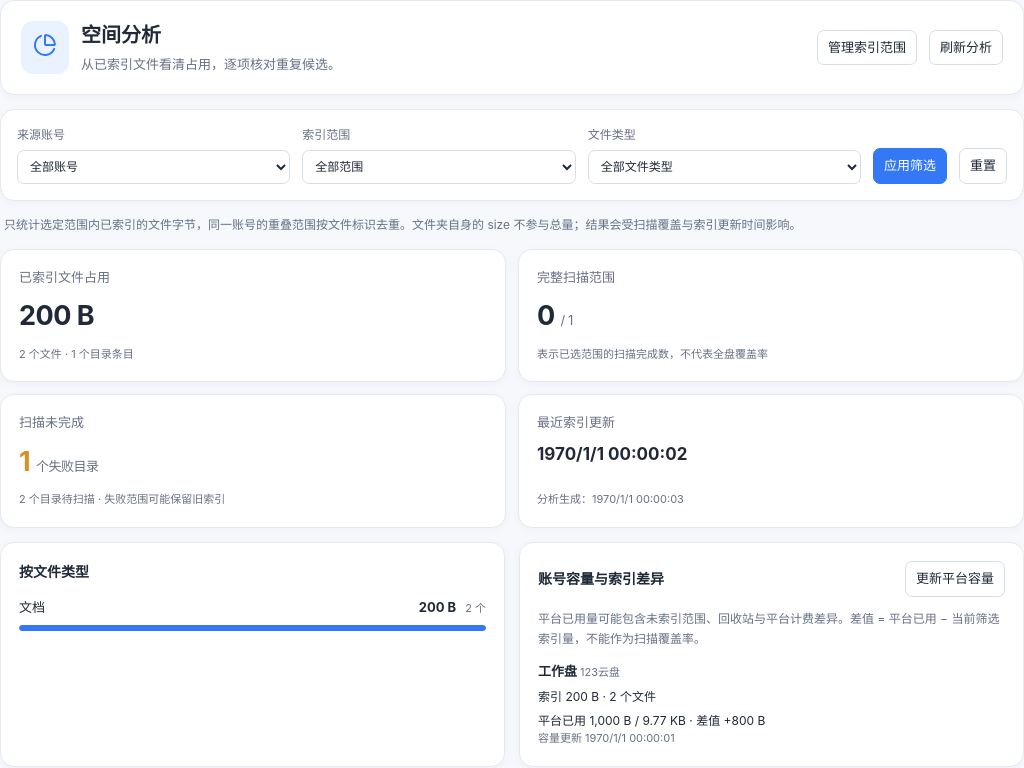
it: ignores late summaries and list responses when newer filters finish first
Select "工作盘" in the dropdown named "来源账号" at (154, 166), box [17, 150, 290, 184]
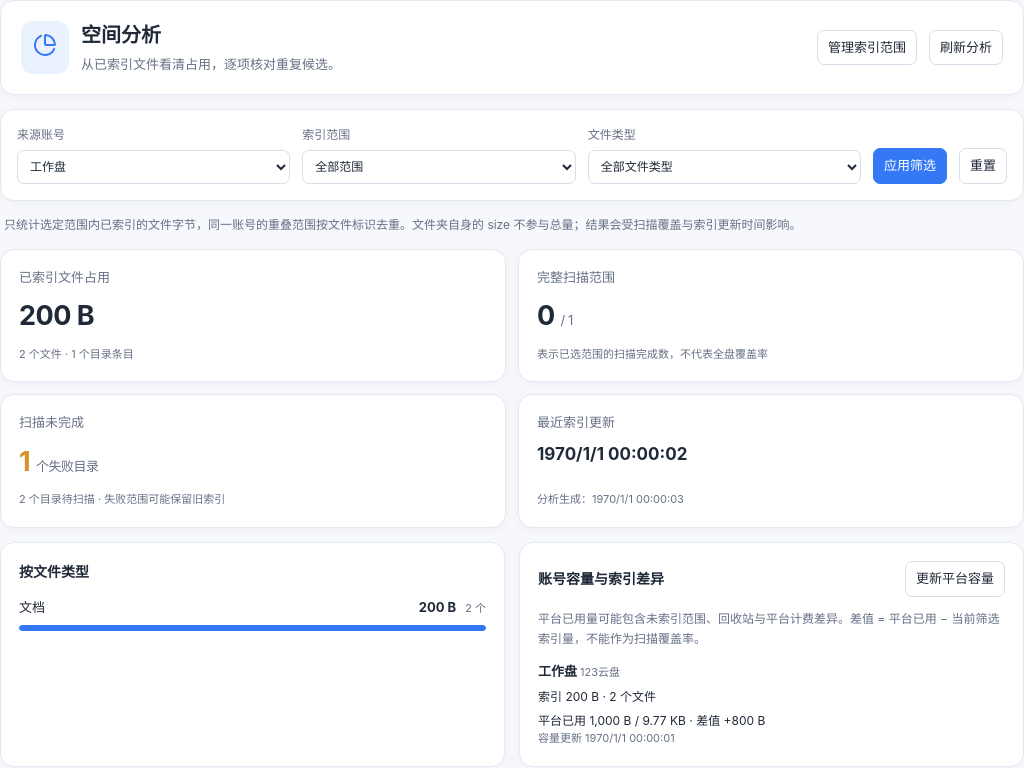
Submit the form with class "filters", box [0, 108, 1023, 200]
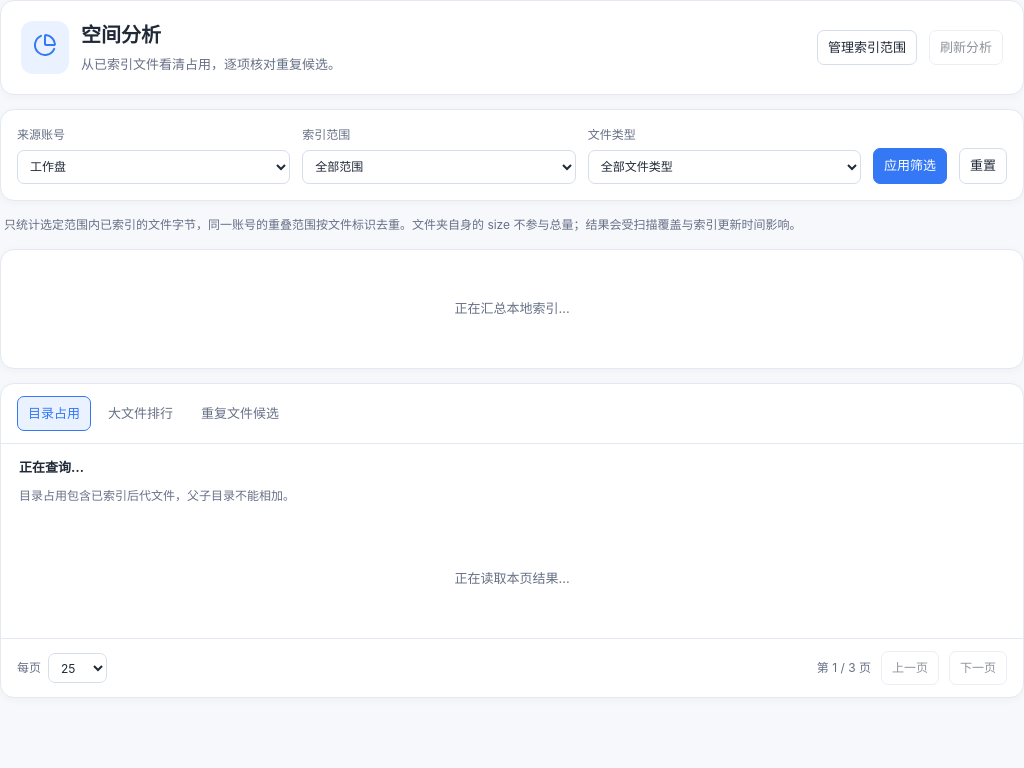
Select "个人盘" in the dropdown named "来源账号" at (154, 166), box [17, 150, 290, 184]
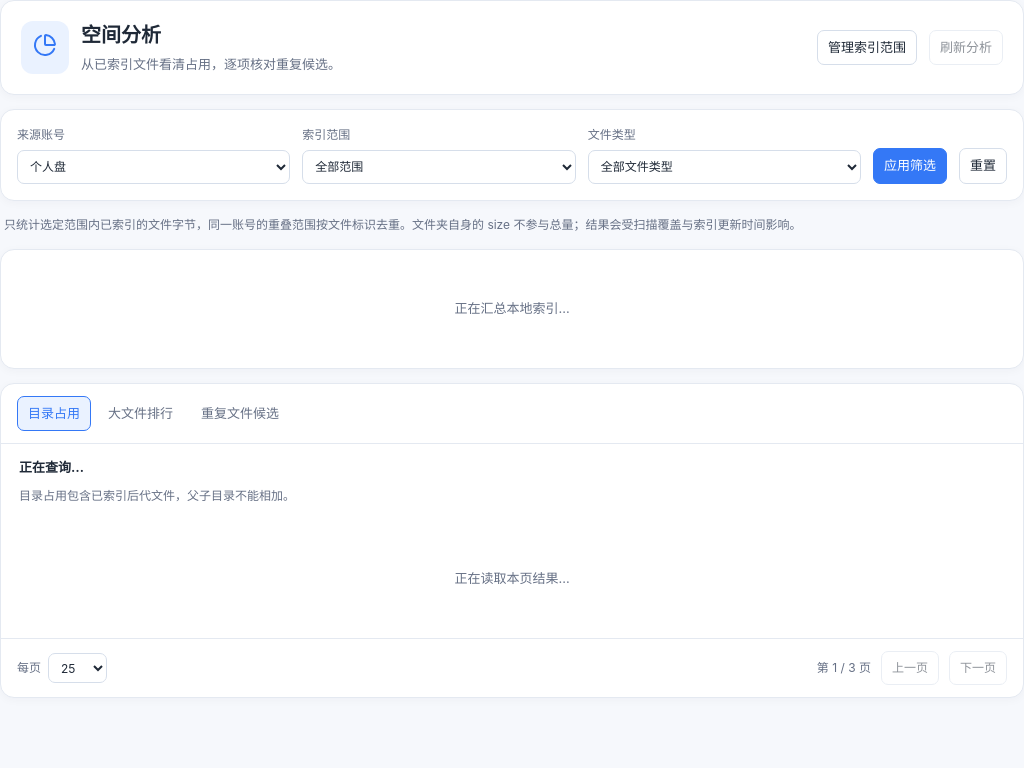
Submit the form with class "filters", box [0, 108, 1023, 200]
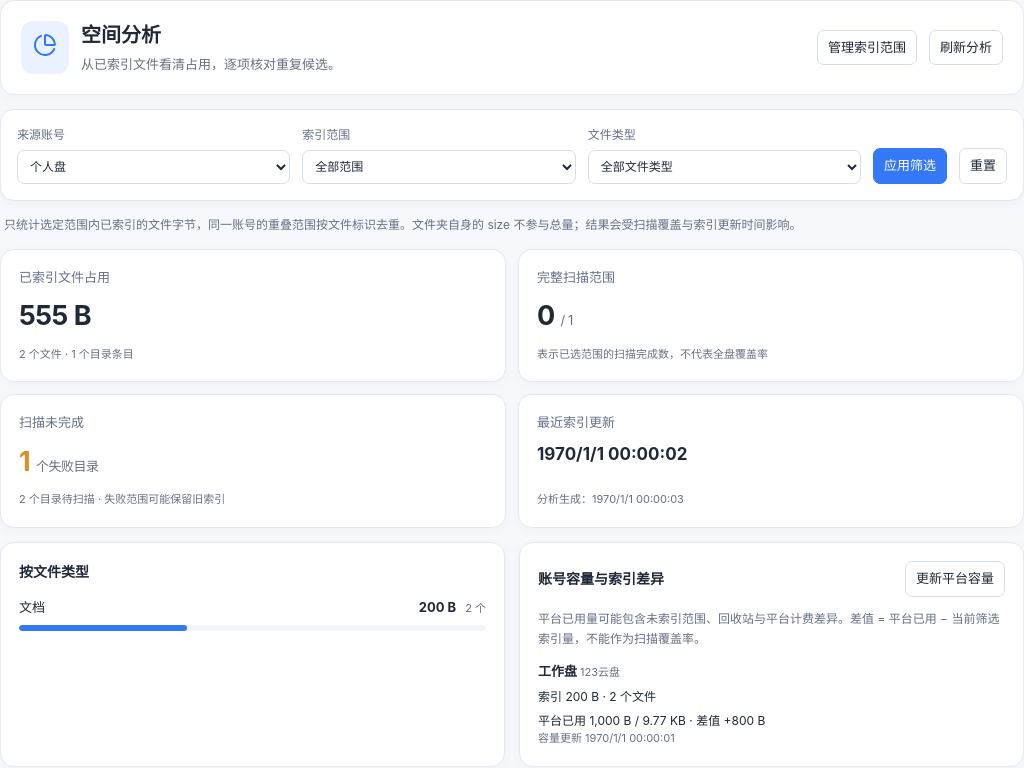
Expected: the element with class "metrics" shows "555 B", [19, 299, 91, 332]
